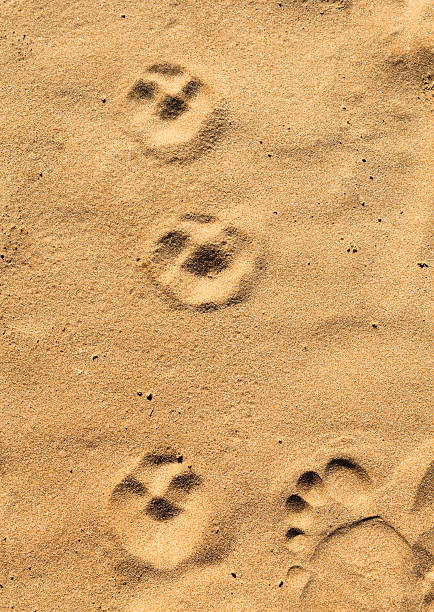animal_footprint: (279, 442, 433, 611), (107, 453, 227, 571), (143, 213, 264, 310), (115, 62, 225, 160)
